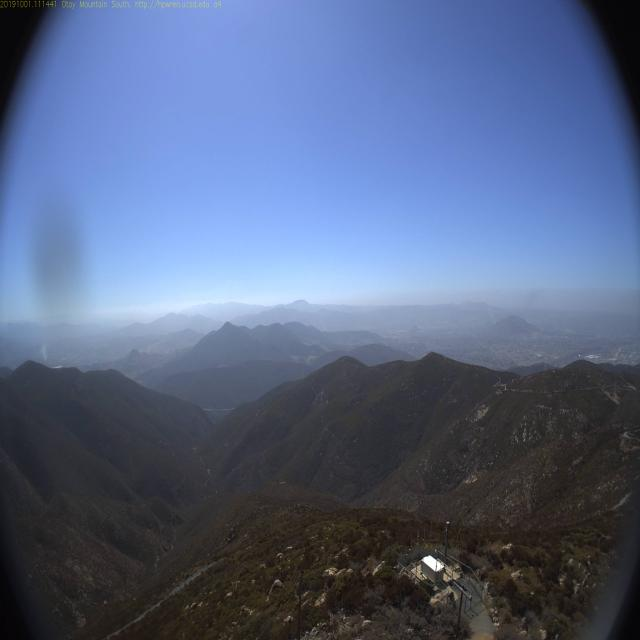smoke: (34, 335, 56, 364)
